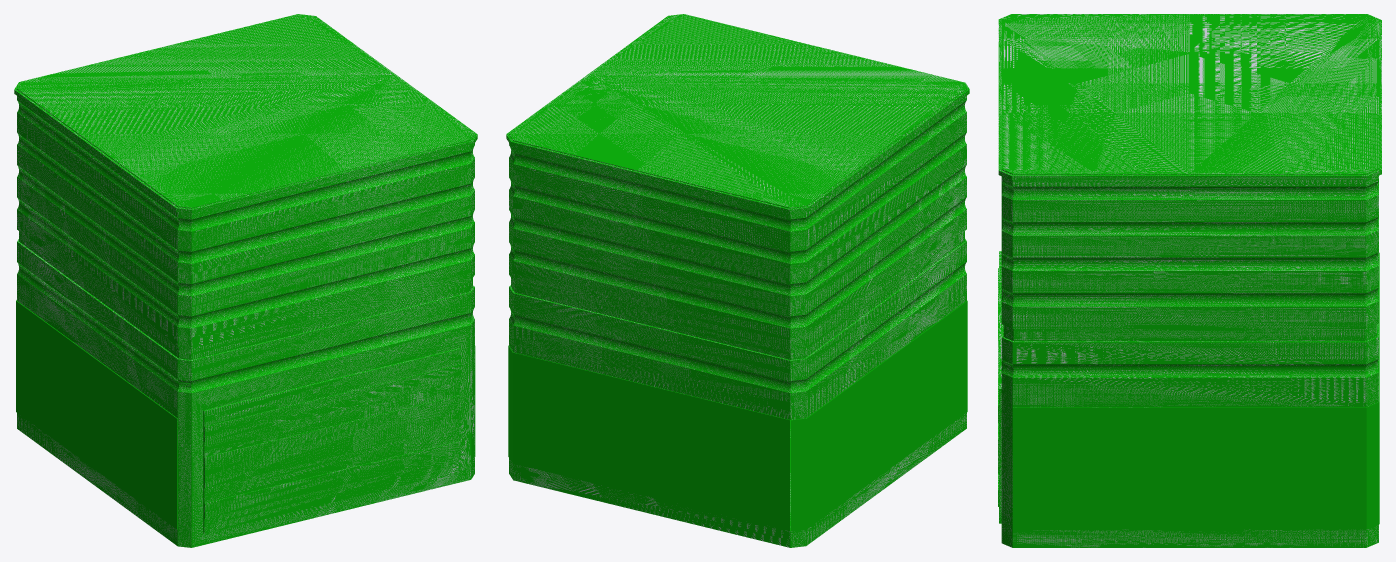
3 renders of one model, left to right at view 1: azimuth 30°, elevation 25°; view 2: azimuth 150°, elevation 25°; view 3: azimuth 270°, elevation 25°, orthographic. The views are drawn at different scales.
Parts seen in each view (by area): view 1: SketchUp.003, SketchUp.007, SketchUp, SketchUp.001, SketchUp.005, SketchUp.004, SketchUp.002; view 2: SketchUp.003, SketchUp.007, SketchUp, SketchUp.006, SketchUp.005, SketchUp.004, SketchUp.002; view 3: SketchUp.007, SketchUp.003, SketchUp.006, SketchUp, SketchUp.004, SketchUp.002, SketchUp.001.
Boxes of the visible parts, x1,y1,x2,y2 form: SketchUp.003: (17,96,474,348); SketchUp.007: (17,14,474,208); SketchUp: (17,239,474,547); SketchUp.001: (203,348,461,533); SketchUp.005: (16,300,177,529); SketchUp.004: (19,231,472,359); SketchUp.002: (14,14,477,213); SketchUp.003: (509,96,966,348); SketchUp.007: (509,14,966,208); SketchUp: (509,239,966,547); SketchUp.006: (508,345,789,531); SketchUp.005: (790,300,967,531); SketchUp.004: (511,231,964,359); SketchUp.002: (506,14,969,213); SketchUp.007: (1001,14,1378,174); SketchUp.003: (1001,175,1378,328); SketchUp.006: (1012,253,1379,529); SketchUp: (1001,323,1378,547); SketchUp.004: (1003,324,1376,341); SketchUp.002: (998,14,1381,180); SketchUp.001: (998,251,1001,523).
Bounding box in the file's own units: 0.782 × 0.783 × 0.842.
